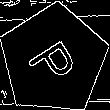P_NE: (24, 31, 84, 88)
